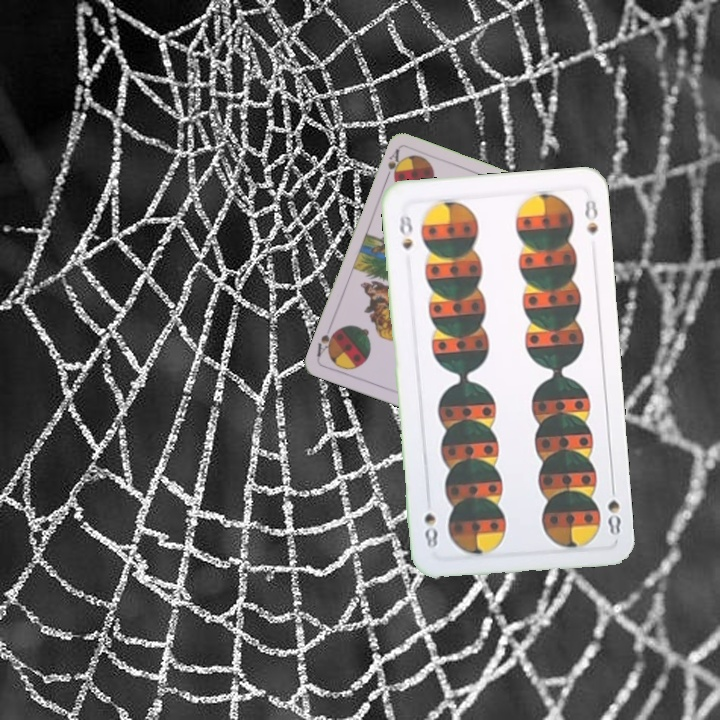S8: (604, 480, 623, 538), (395, 208, 416, 252)
SA: (381, 145, 402, 185)
